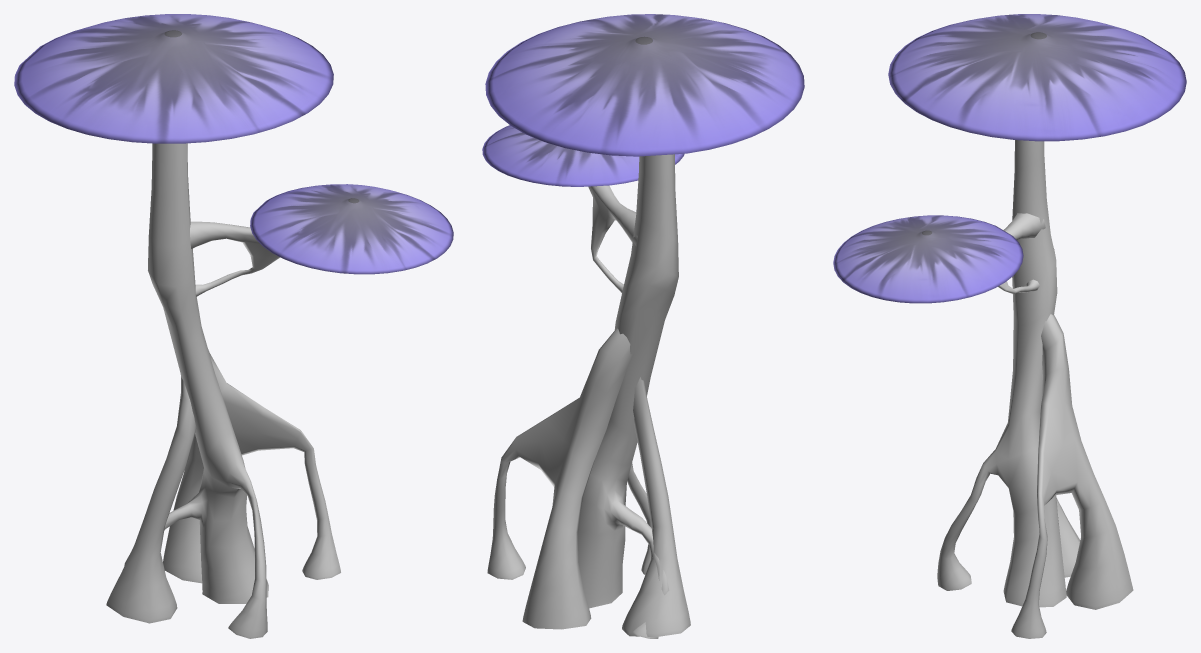
File: tree swamp.fbx
3 renders of one model, left to right at view 1: azimuth 30°, elevation 25°; view 2: azimuth 150°, elevation 25°; view 3: azimuth 270°, elevation 25°, orthographic. The views are drawn at different scales.
Visible parts, largest first — view 1: pCylinder14; view 2: pCylinder14; view 3: pCylinder14.
Part boxes in pixels (left/top/right/bottom): pCylinder14: left=14, top=14, right=453, bottom=638; pCylinder14: left=482, top=14, right=804, bottom=638; pCylinder14: left=833, top=14, right=1186, bottom=638.
Size of the model in its own units: 1201 by 1925 by 1138.
